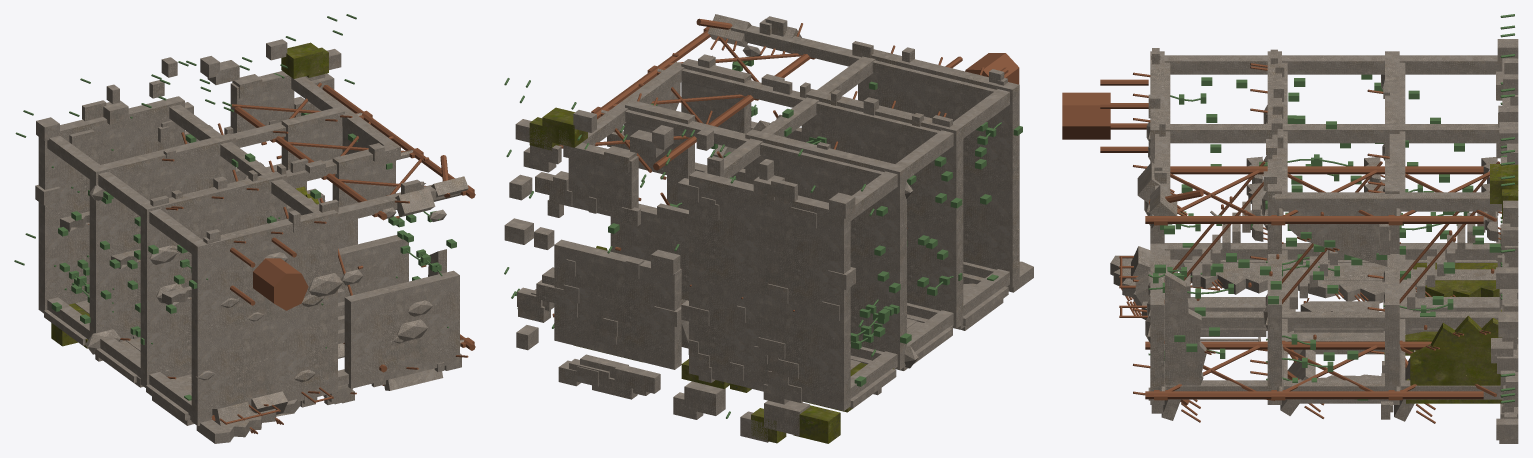
The model's file is ruined_building_v3.glb.
3 renders of one model, left to right at view 1: azimuth 30°, elevation 25°; view 2: azimuth 150°, elevation 25°; view 3: azimuth 270°, elevation 25°, orthographic. The views are drawn at different scales.
Visible parts, largest first — view 1: slab_3_0, slab_2_0, slab_1_0, slab_0_0, slab_3_1, slab_2_1, slab_1_2, slab_2_2, slab_0_2, tank_body_vertical, roof_broken_parapet_front, roof_collapse_ground_rubble_2 (+30 smaller); view 2: slab_0_0, slab_3_0, slab_2_0, slab_1_0, slab_0_1, slab_0_2, beam_2_3, beam_1_3, beam_0_3, slab_1_1, slab_2_2, slab_1_2 (+31 smaller); view 3: side_wall_ground_remnant, side_wall_top_spandrel, steel_4.5_-2.8, side_wall_middle_remnant, steel_4.5_2.8, steel_1.1_2.8, tank_body_vertical, column_1_3.7_3, slab_1_1, slab_3_1, column_0_3.7_3, column_1_-5.7_3 (+50 smaller).
Part boxes in pixels (box(x1,y1,x2,y2)): slab_3_0: box(191, 210, 337, 425); slab_2_0: box(140, 171, 286, 387); slab_1_0: box(89, 133, 235, 341); slab_0_0: box(38, 96, 184, 313); slab_3_1: box(344, 270, 459, 388); slab_2_1: box(338, 235, 408, 296); slab_1_2: box(281, 107, 344, 170); slab_2_2: box(332, 144, 395, 207); slab_0_2: box(230, 71, 294, 133); tank_body_vertical: box(253, 258, 308, 310); roof_broken_parapet_front: box(196, 399, 300, 443); roof_collapse_ground_rubble_2: box(281, 42, 322, 78); slab_0_0: box(689, 170, 850, 411); slab_3_0: box(858, 49, 1019, 287); slab_2_0: box(801, 89, 963, 328); slab_1_0: box(745, 129, 906, 369); slab_0_1: box(554, 239, 681, 369); slab_0_2: box(568, 142, 638, 218); beam_2_3: box(730, 25, 996, 99); beam_1_3: box(681, 68, 939, 140); beam_0_3: box(625, 109, 883, 181); slab_1_1: box(610, 203, 688, 300); slab_2_2: box(681, 59, 751, 133); slab_1_2: box(625, 100, 694, 178); side_wall_ground_remnant: box(1410, 315, 1501, 385); side_wall_top_spandrel: box(1165, 270, 1206, 385); steel_4.5_-2.8: box(1145, 391, 1483, 399); side_wall_middle_remnant: box(1288, 211, 1387, 266); steel_4.5_2.8: box(1145, 216, 1483, 223); steel_1.1_2.8: box(1146, 166, 1483, 174); tank_body_vertical: box(1062, 92, 1110, 139); column_1_3.7_3: box(1275, 192, 1392, 211); slab_1_1: box(1385, 254, 1399, 404); slab_3_1: box(1150, 243, 1164, 404); column_0_3.7_3: box(1392, 192, 1501, 211); column_1_-5.7_3: box(1282, 55, 1384, 74).
Size of the model in its own units: 12.98 by 9.89 by 13.21.
4 materials, 2 textured.
